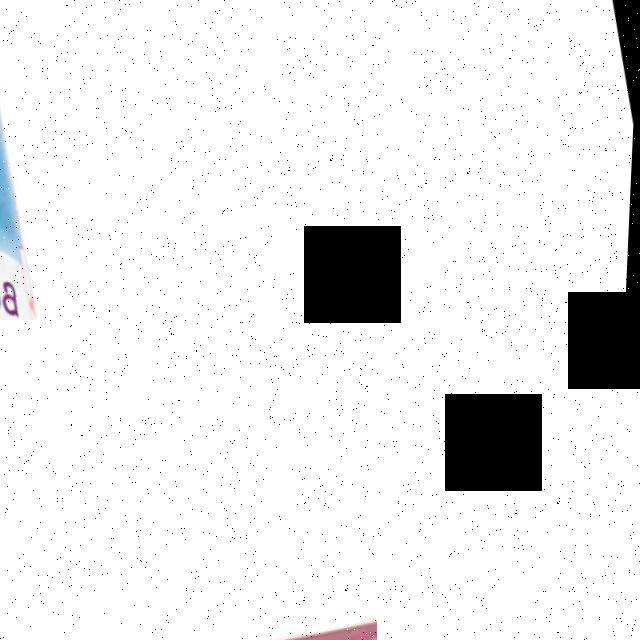Eraserrotation: (0, 550, 377, 640)
GlueStickrotation: (0, 0, 128, 320)
PaperCliprotation: (377, 320, 640, 640)
Pencilrotation: (377, 0, 640, 320)
